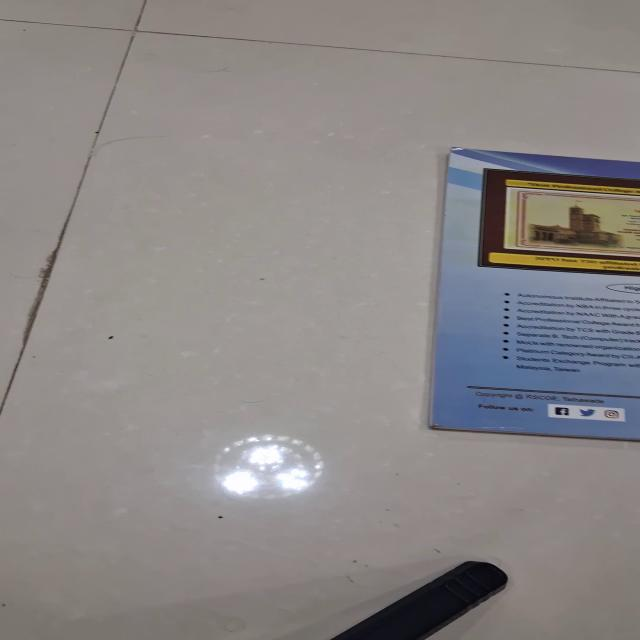paper: (426, 146, 638, 441)
